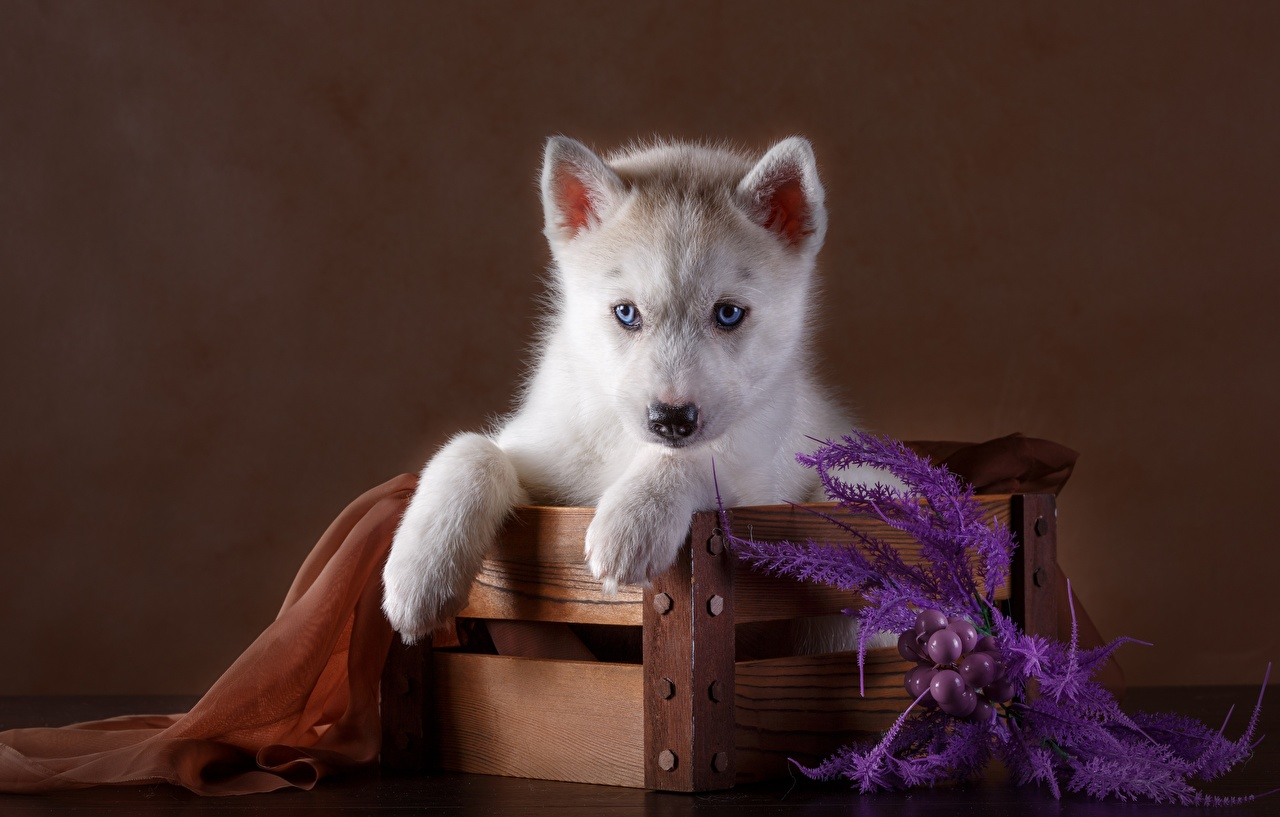husky: (353, 84, 920, 649)
